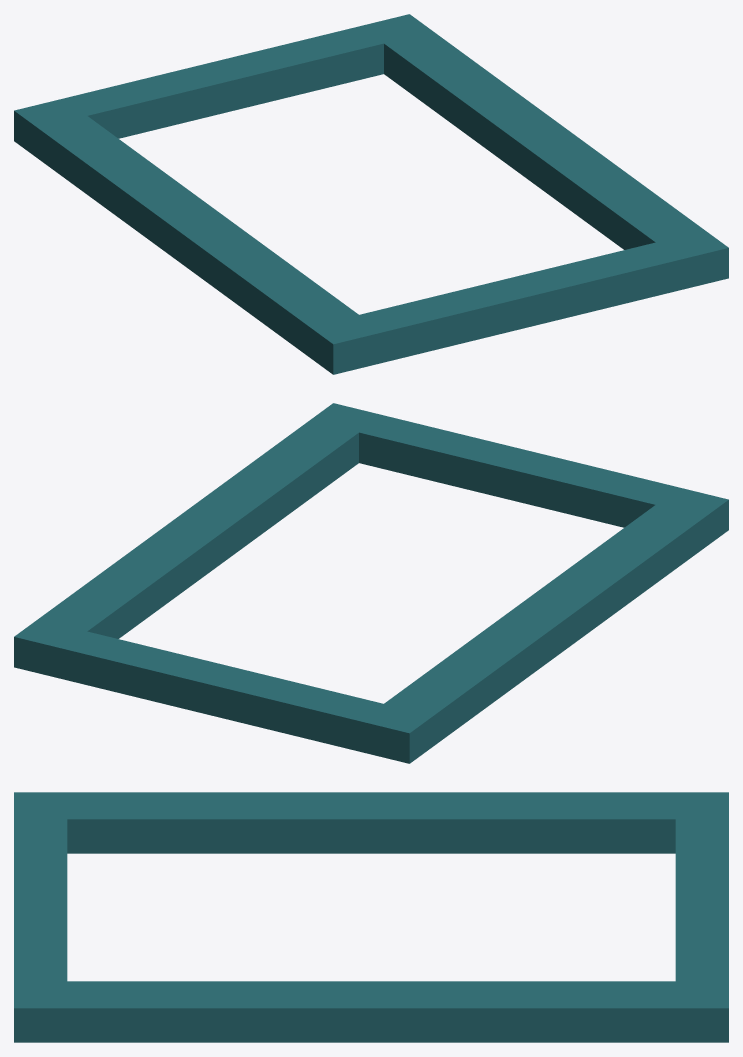
The model's file is keep-wd02_0.obj.
3 views of the same model, one above another, from view 1: azimuth 30°, elevation 25°; view 2: azimuth 150°, elevation 25°; view 3: azimuth 270°, elevation 25° (orthographic). The views are drawn at different scales.
Bounding box in the file's own units: 0.4062 × 0.03 × 0.5679.
1 material, 1 textured.
